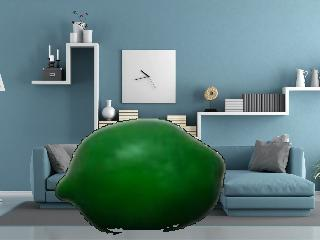lime: (50, 112, 231, 240)
